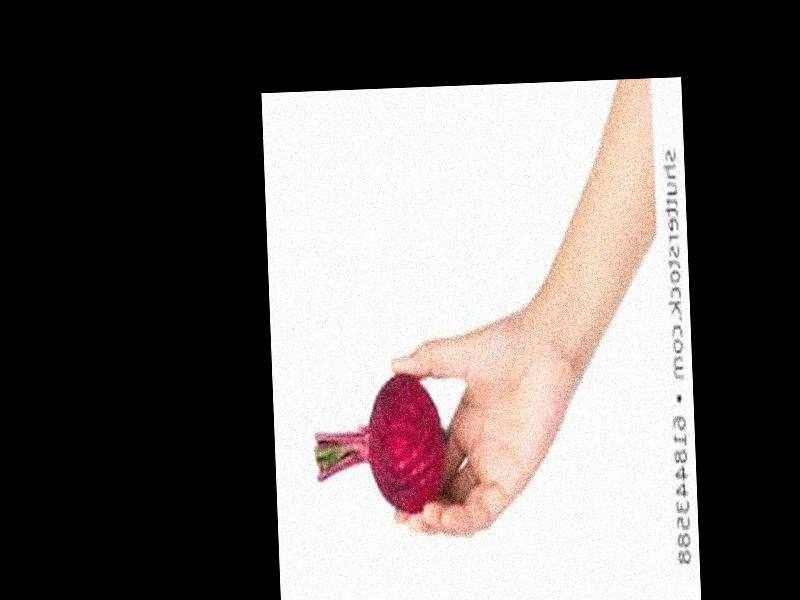Beet: (312, 373, 448, 520)
